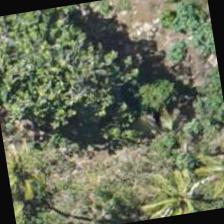Kelapa_Sawit: (130, 143, 223, 222), (1, 116, 72, 214), (181, 129, 223, 214)
